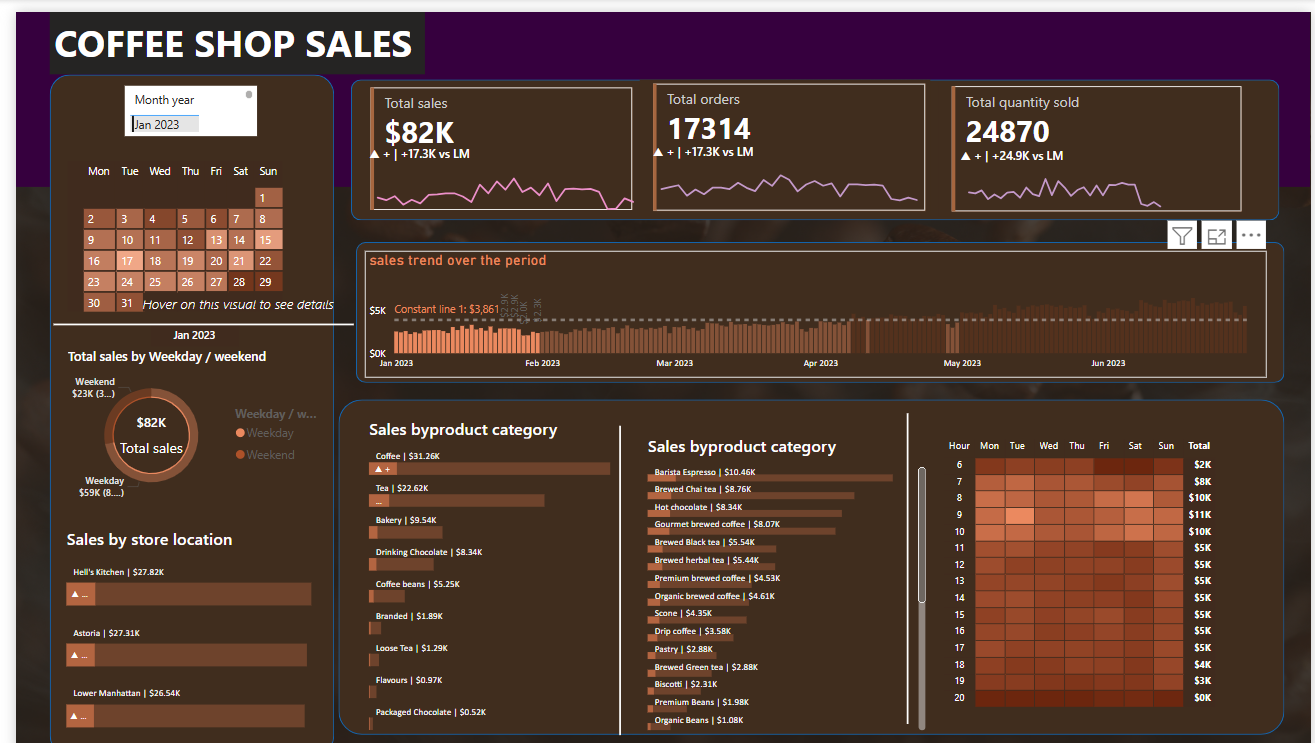

The page's visual inventory and layout, read from the dashboard file:
{"tool":"powerbi","page":{"name":"Page 1","canvas":[1480,850],"ordinal":0},"visuals":[{"type":"shape","box":[0,0,1478.9,199.9],"z":0},{"type":"shape","box":[39.3,71.4,325,778.6],"z":1000},{"type":"shape","box":[383.1,76.9,1061.1,160.9],"z":2000},{"type":"textbox","box":[39.3,0,428.6,71.4],"z":3000},{"type":"cardVisual","fields":{"Data":["Transactions.Total quantity sold"]},"box":[1054.8,80.7,351.8,153.8],"z":4000,"group":"g2"},{"type":"group","id":"g1","title":"Group 1","box":[390.3,81.2,319,151],"z":4000},{"type":"cardVisual","fields":{"Data":["Transactions.Total sales"]},"box":[390.3,81.2,319,151],"z":4000,"group":"g1"},{"type":"cardVisual","fields":{"Data":["Transactions.Total orders"]},"box":[713.6,76.9,331.9,155.2],"z":5000},{"type":"tableEx","fields":{"Values":["Date table.Month year"]},"box":[124.8,84.7,151.6,58],"z":6000},{"type":"lineChart","fields":{"Category":["Date table.Date Hierarchy.Date","Date table.Date.Variation.Date Hierarchy.Year","Date table.Date.Variation.Date Hierarchy.Quarter","Date table.Date.Variation.Date Hierarchy.Month","Date table.Date.Variation.Date Hierarchy.Day"],"Y":["Transactions.Total sales"]},"box":[412,154.5,277.8,75.7],"z":6000,"group":"g1"},{"type":"lineChart","fields":{"Category":["Date table.Date Hierarchy.Date","Date table.Date.Variation.Date Hierarchy.Year","Date table.Date.Variation.Date Hierarchy.Quarter","Date table.Date.Variation.Date Hierarchy.Month","Date table.Date.Variation.Date Hierarchy.Day"],"Y":["Transactions.Total quantity sold"]},"box":[1074.8,154.6,248.8,78.8],"z":6000,"group":"g2"},{"type":"lineChart","fields":{"Category":["Date table.Date Hierarchy.Date","Date table.Date.Variation.Date Hierarchy.Year","Date table.Date.Variation.Date Hierarchy.Quarter","Date table.Date.Variation.Date Hierarchy.Month","Date table.Date.Variation.Date Hierarchy.Day"],"Y":["Transactions.Total orders"]},"box":[723.5,149.5,321.9,79.8],"z":7000},{"type":"group","id":"g2","title":"Group 1","box":[1054.8,80.7,351.8,153.8],"z":8000},{"type":"pivotTable","fields":{"Rows":["Date table.week number"],"Columns":["Date table.Date name"],"Values":["Min(Date table.Day number)"]},"box":[54.1,165.2,299.1,401.6],"z":9000},{"type":"card","fields":{"Values":["Min(Date table.Month year)"]},"box":[153.8,357.5,99.7,25.6],"z":10000},{"type":"card","fields":{"Values":["Transactions.Footnote"]},"box":[135.3,320.5,236.4,22.8],"z":11000},{"type":"shape","box":[42.7,341.8,343.2,31.3],"z":12000},{"type":"donutChart","fields":{"Category":["Date table.Weekday / weekend"],"Y":["Transactions.Total sales"]},"box":[54.1,383.1,299.1,182.3],"z":12001,"group":"g3"},{"type":"cardVisual","fields":{"Data":["Transactions.Total sales"]},"box":[89.7,441.5,129.6,71.2],"z":13000,"group":"g3"},{"type":"clusteredBarChart","title":"Sales by store location","fields":{"Y":["Transactions.Placeholder","Transactions.Total sales"],"Category":["Transactions.store_location"]},"box":[52.7,588.2,311.9,237.9],"z":13000},{"type":"group","id":"g3","title":"Group 2","box":[54.1,383.1,299.1,182.3],"z":14000},{"type":"shape","box":[388.8,263.5,1061.1,160.9],"z":15000},{"type":"columnChart","title":"sales trend over the period","fields":{"Category":["Transactions.transaction_date"],"Y":["Transactions.Total sales"]},"box":[398.8,273.5,1031.2,145.3],"z":16000},{"type":"shape","box":[368.9,442.9,1081,383.1],"z":17000},{"type":"clusteredBarChart","title":"Sales byproduct category","fields":{"Y":["Transactions.Placeholder","Transactions.Total sales"],"Category":["Transactions.product_category"]},"box":[398.4,463.1,308.8,363.5],"z":18000},{"type":"shape","box":[517.9,473.1,343.6,353.6],"z":19000},{"type":"clusteredBarChart","title":"Sales byproduct category","fields":{"Y":["Transactions.Placeholder","Transactions.Total sales"],"Category":["Transactions.product_type"]},"box":[717.1,483.1,308.8,343.6],"z":20000},{"type":"shape","box":[847.8,458.2,343.7,355.1],"z":21000},{"type":"pivotTable","fields":{"Rows":["Transactions.Hour"],"Columns":["Date table.Date name"],"Values":["Transactions.Total sales"]},"box":[1055.4,482.8,326.2,330.4],"z":22000}]}

Visuals, with their boxes in screenshot pixels (x1, y1, x2, y2), scaled from the page's 1480x850 canvas onto the 1315x743 screenshot:
shape: [x1=0, y1=0, x2=1314, y2=175]
shape: [x1=35, y1=62, x2=324, y2=742]
shape: [x1=340, y1=67, x2=1283, y2=208]
textbox: [x1=35, y1=0, x2=416, y2=62]
cardVisual - Transactions.Total quantity sold: [x1=937, y1=71, x2=1250, y2=205]
"Group 1" group: [x1=347, y1=71, x2=630, y2=203]
cardVisual - Transactions.Total sales: [x1=347, y1=71, x2=630, y2=203]
cardVisual - Transactions.Total orders: [x1=634, y1=67, x2=929, y2=203]
tableEx - Date table.Month year: [x1=111, y1=74, x2=246, y2=125]
lineChart - Date table.Date Hierarchy.Date x Date table.Date.Variation.Date Hierarchy.Year: [x1=366, y1=135, x2=613, y2=201]
lineChart - Date table.Date Hierarchy.Date x Date table.Date.Variation.Date Hierarchy.Year: [x1=955, y1=135, x2=1176, y2=204]
lineChart - Date table.Date Hierarchy.Date x Date table.Date.Variation.Date Hierarchy.Year: [x1=643, y1=131, x2=929, y2=200]
"Group 1" group: [x1=937, y1=71, x2=1250, y2=205]
pivotTable - Date table.week number x Date table.Date name: [x1=48, y1=144, x2=314, y2=495]
card - Min(Date table.Month year): [x1=137, y1=312, x2=225, y2=335]
card - Transactions.Footnote: [x1=120, y1=280, x2=330, y2=300]
shape: [x1=38, y1=299, x2=343, y2=326]
donutChart - Date table.Weekday / weekend x Transactions.Total sales: [x1=48, y1=335, x2=314, y2=494]
cardVisual - Transactions.Total sales: [x1=80, y1=386, x2=195, y2=448]
"Sales by store location" clusteredBarChart: [x1=47, y1=514, x2=324, y2=722]
"Group 2" group: [x1=48, y1=335, x2=314, y2=494]
shape: [x1=345, y1=230, x2=1288, y2=371]
"sales trend over the period" columnChart: [x1=354, y1=239, x2=1271, y2=366]
shape: [x1=328, y1=387, x2=1288, y2=722]
"Sales byproduct category" clusteredBarChart: [x1=354, y1=405, x2=628, y2=723]
shape: [x1=460, y1=414, x2=765, y2=723]
"Sales byproduct category" clusteredBarChart: [x1=637, y1=422, x2=912, y2=723]
shape: [x1=753, y1=401, x2=1059, y2=711]
pivotTable - Transactions.Hour x Date table.Date name: [x1=938, y1=422, x2=1228, y2=711]
